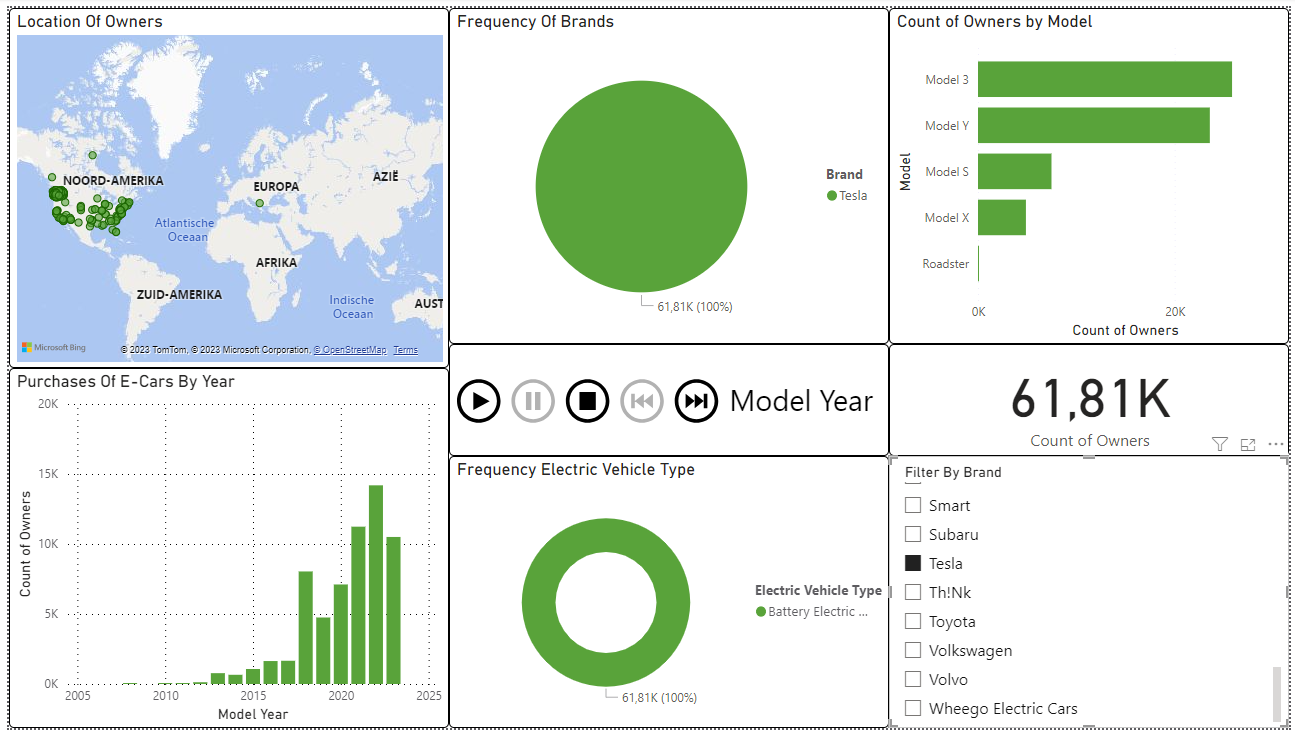

The dashboard page shown, as its layout file describes it:
{"tool":"powerbi","page":{"name":"Electric Vehicles","canvas":[1280,720],"ordinal":0},"visuals":[{"type":"map","title":"Location Of Owners","fields":{"Category":["Electric Vehicle Population Data.Owner Location"]},"box":[0,0,440,360],"z":0},{"type":"pieChart","title":"Frequency Of Brands","fields":{"Category":["Electric Vehicle Population Data.Brand"],"Y":["CountNonNull(Electric Vehicle Population Data.Vehicle ID)"]},"box":[440,0,440,336],"z":1000},{"type":"columnChart","title":"Purchases Of E-Cars By Year","fields":{"Category":["Electric Vehicle Population Data.Model Year"],"Y":["CountNonNull(Electric Vehicle Population Data.Vehicle ID)"]},"box":[0,360,440,360],"z":2000},{"type":"PBI_CV_16948668_E17D_454B_8664_2F2C470EA8C1","fields":{"category":["Electric Vehicle Population Data.Model Year"]},"box":[440,336,440,112],"z":3000},{"type":"donutChart","title":"Frequency Electric Vehicle Type","fields":{"Y":["CountNonNull(Electric Vehicle Population Data.Owners)"],"Category":["Electric Vehicle Population Data.Electric Vehicle Type"]},"box":[440,448,440,272],"z":4000},{"type":"barChart","fields":{"Category":["Electric Vehicle Population Data.Model"],"Y":["CountNonNull(Electric Vehicle Population Data.Owners)"]},"box":[880,0,400,336],"z":5000},{"type":"slicer","fields":{"Values":["Electric Vehicle Population Data.Brand"]},"box":[880,448,400,272],"z":6000},{"type":"card","fields":{"Values":["CountNonNull(Electric Vehicle Population Data.Owners)"]},"box":[880,336,400,112],"z":7000}]}

Visuals, with their boxes in screenshot pixels (x1, y1, x2, y2), scaled from the page's 1280x720 canvas onto the 1295x735 screenshot:
"Location Of Owners" map: x1=0, y1=0, x2=445, y2=368
"Frequency Of Brands" pieChart: x1=445, y1=0, x2=890, y2=343
"Purchases Of E-Cars By Year" columnChart: x1=0, y1=368, x2=445, y2=734
PBI_CV_16948668_E17D_454B_8664_2F2C470EA8C1 - Electric Vehicle Population Data.Model Year: x1=445, y1=343, x2=890, y2=457
"Frequency Electric Vehicle Type" donutChart: x1=445, y1=457, x2=890, y2=734
barChart - Electric Vehicle Population Data.Model x CountNonNull(Electric Vehicle Population Data.Owners): x1=890, y1=0, x2=1294, y2=343
slicer - Electric Vehicle Population Data.Brand: x1=890, y1=457, x2=1294, y2=734
card - CountNonNull(Electric Vehicle Population Data.Owners): x1=890, y1=343, x2=1294, y2=457
